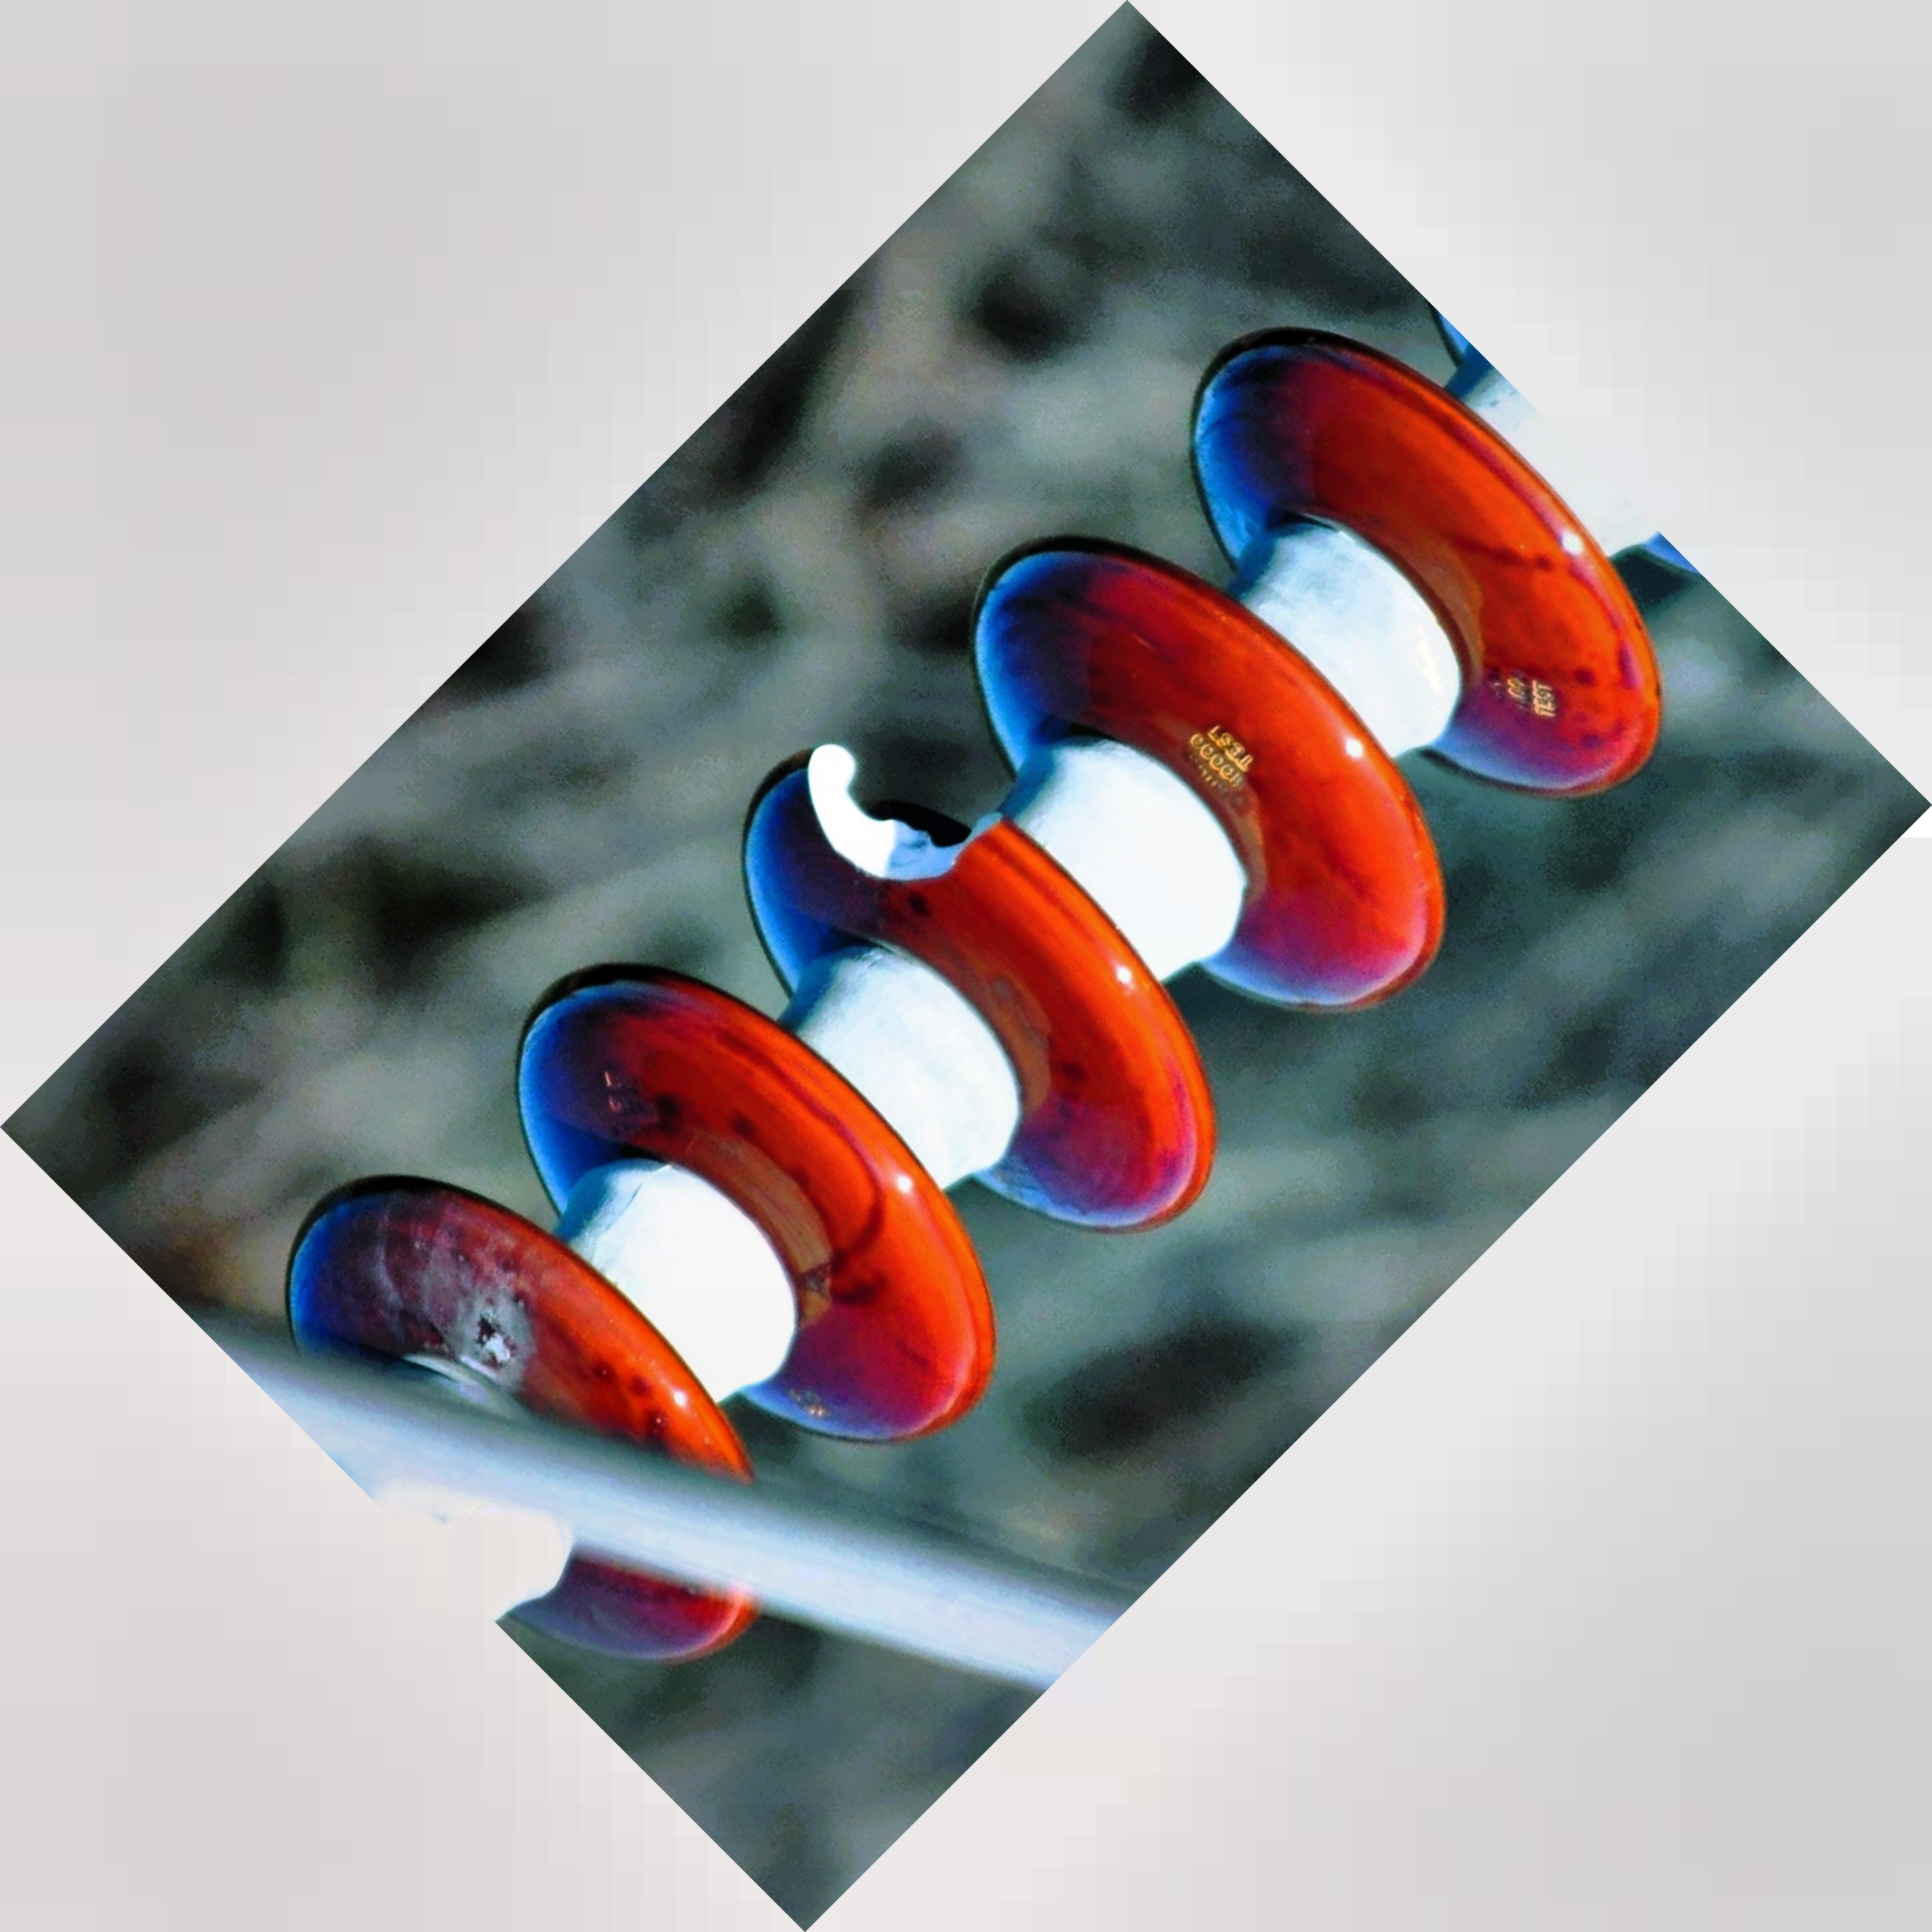insulator breakage: (736, 709, 1221, 1253)
